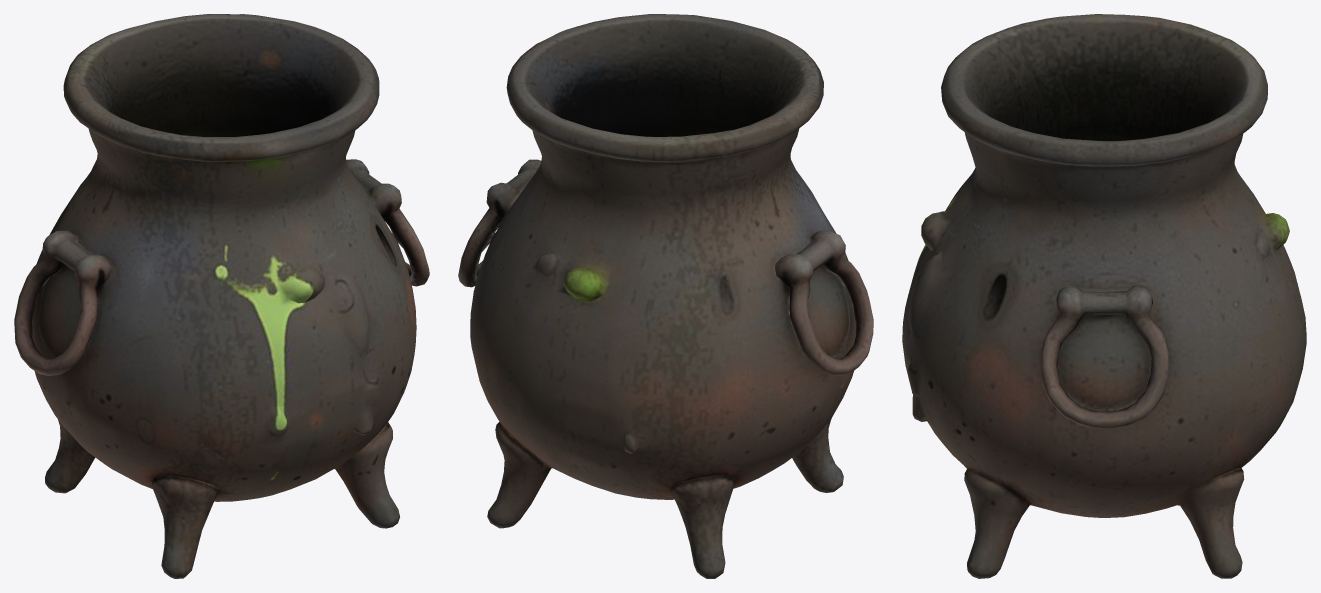
Rendered from cauldron.glb.
3 views of the same model, side by side, from view 1: azimuth 30°, elevation 25°; view 2: azimuth 150°, elevation 25°; view 3: azimuth 270°, elevation 25° (orthographic). The views are drawn at different scales.
Visible parts, largest first — view 1: hg-cauldron; view 2: hg-cauldron; view 3: hg-cauldron.
Boxes of the visible parts, x1,y1,x2,y2 form: hg-cauldron: [14, 14, 429, 578]; hg-cauldron: [458, 14, 873, 578]; hg-cauldron: [902, 14, 1306, 578].
Size of the model in its own units: 1.33 by 1.43 by 1.17.
Materials: 1 (1 with a texture image).
